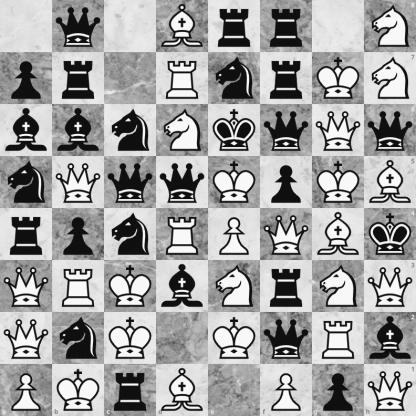B: (156, 364, 209, 416), (364, 156, 416, 209), (157, 1, 208, 52), (313, 209, 364, 260)
K: (52, 364, 104, 416), (105, 261, 156, 312), (105, 313, 156, 364), (209, 157, 260, 208), (209, 313, 260, 364), (313, 53, 364, 104), (313, 157, 364, 208)
N: (364, 0, 416, 52), (364, 52, 416, 104), (157, 105, 208, 156), (209, 261, 260, 312), (313, 261, 364, 312)
P: (0, 364, 52, 416), (260, 364, 312, 416), (209, 209, 260, 260)
Q: (364, 260, 416, 312), (364, 364, 416, 416), (1, 261, 52, 312), (1, 313, 52, 364), (53, 157, 104, 208), (261, 209, 312, 260), (313, 105, 364, 156)
R: (53, 261, 104, 312), (157, 53, 208, 104), (157, 209, 208, 260), (313, 313, 364, 364)
b: (364, 312, 416, 364), (1, 105, 52, 156), (53, 105, 104, 156), (157, 261, 208, 312)
board: (0, 0, 415, 415)
k: (364, 209, 416, 260), (209, 105, 260, 156)
n: (1, 157, 52, 208), (53, 313, 104, 364), (105, 105, 156, 156), (105, 209, 156, 260), (209, 53, 260, 104)
p: (312, 364, 364, 416), (1, 53, 52, 104), (53, 209, 104, 260), (261, 157, 312, 208)
q: (364, 104, 416, 156), (53, 1, 104, 52), (105, 157, 156, 208), (157, 157, 208, 208), (261, 105, 312, 156), (261, 313, 312, 364)
r: (104, 364, 156, 416), (1, 209, 52, 260), (53, 53, 104, 104), (209, 1, 260, 52), (261, 1, 312, 52), (261, 53, 312, 104), (261, 261, 312, 312)
